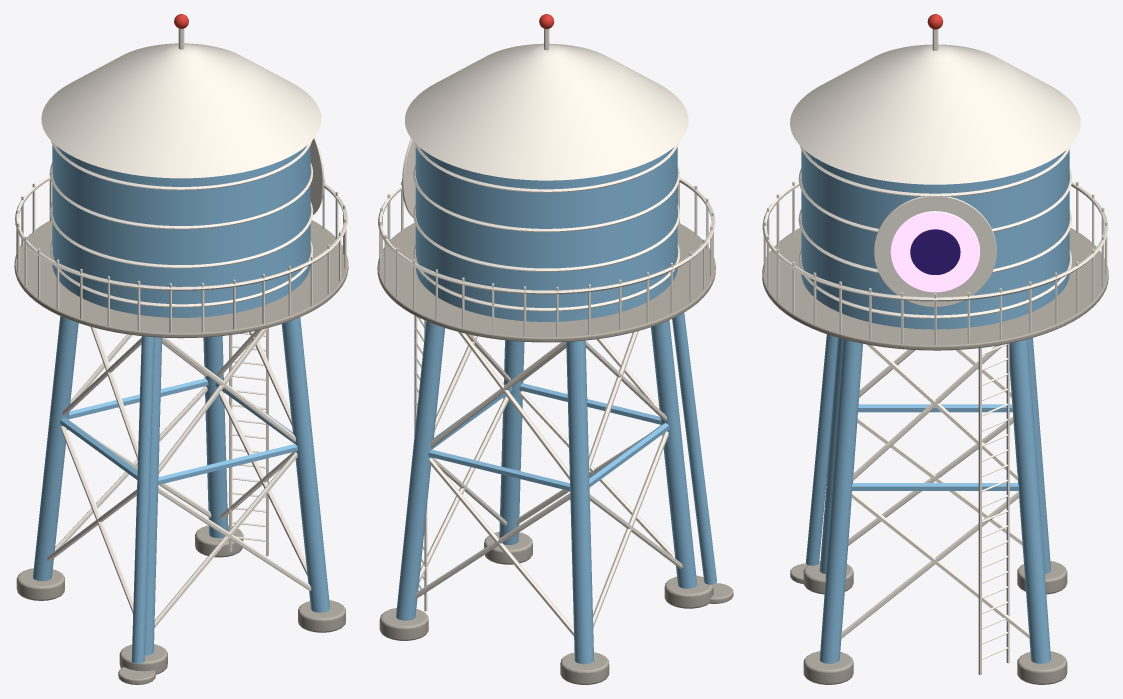
File: water_tower.glb
3 renders of one model, left to right at view 1: azimuth 30°, elevation 25°; view 2: azimuth 150°, elevation 25°; view 3: azimuth 270°, elevation 25°, orthographic. The views are drawn at different scales.
Parts seen in each view (by area): view 1: water_tower; view 2: water_tower; view 3: water_tower.
Boxes of the visible parts, x1,y1,x2,y2 form: water_tower: [14, 14, 348, 684]; water_tower: [377, 14, 733, 684]; water_tower: [762, 14, 1108, 684].
Bounding box in the file's own units: 6.2 × 12.14 × 6.2.
Materials: 1 (1 with a texture image).
